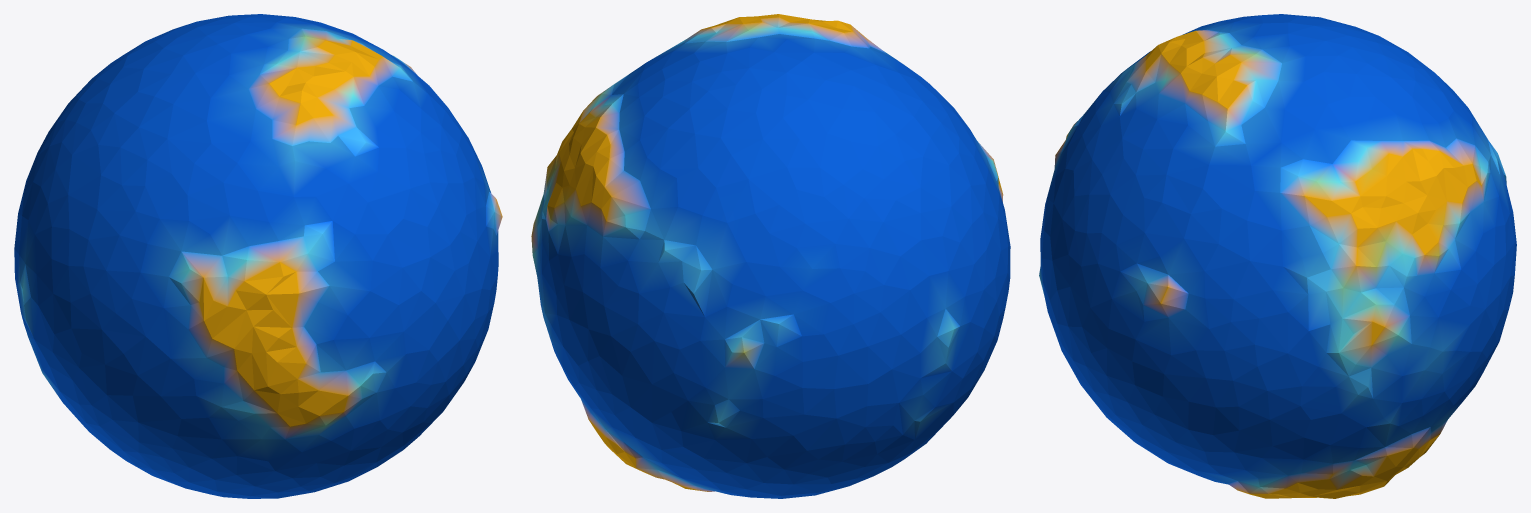
File: planet_3.fbx
The picture shows the model from 3 angles, left to right: view 1: azimuth 30°, elevation 25°; view 2: azimuth 150°, elevation 25°; view 3: azimuth 270°, elevation 25°; orthographic projection. The views are drawn at different scales.
Visible parts, largest first — view 1: file1; view 2: file1; view 3: file1.
Boxes of the visible parts, box(x1,y1,x2,y2) form: file1: box(14, 14, 502, 498); file1: box(531, 14, 1010, 498); file1: box(1039, 14, 1516, 498).
Size of the model in its own units: 2 by 2 by 2.01.
